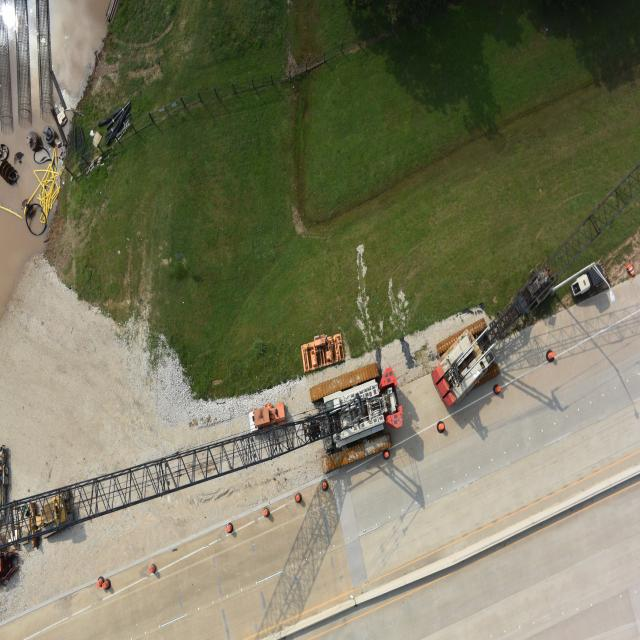fire: (0, 0, 54, 213), (48, 0, 109, 105), (0, 209, 47, 318)
